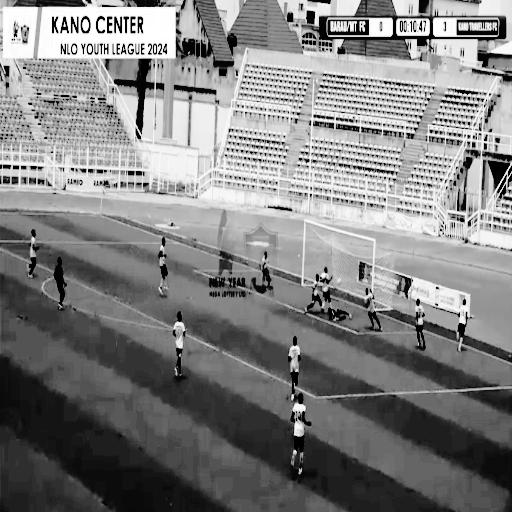ball: (336, 272, 342, 292)
keeper2: (328, 300, 358, 337)
referee: (46, 250, 72, 316)
team1: (287, 387, 312, 493), (146, 230, 176, 296), (451, 293, 471, 363), (257, 250, 274, 294), (321, 258, 332, 307)
team2: (164, 308, 194, 388), (280, 327, 309, 398), (360, 284, 387, 343), (20, 225, 42, 278), (302, 272, 322, 322), (412, 293, 426, 352)
